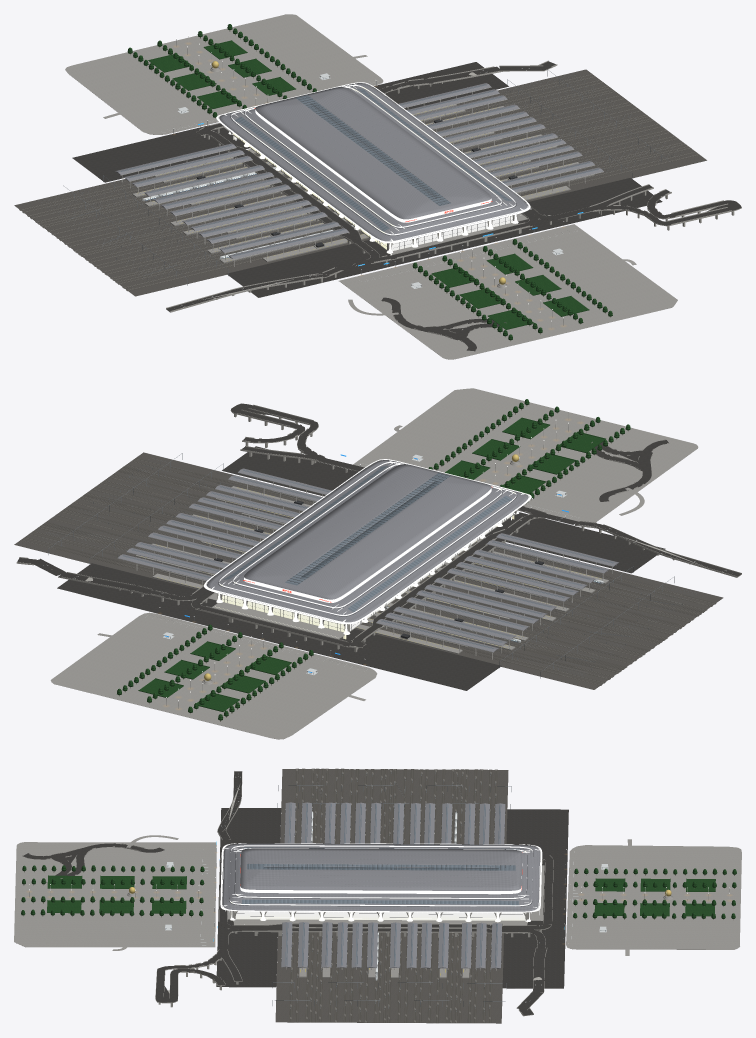
3 views of the same model, one above another, from view 1: azimuth 30°, elevation 25°; view 2: azimuth 150°, elevation 25°; view 3: azimuth 270°, elevation 25° (orthographic). The views are drawn at different scales.
Visible parts, largest first — view 1: Plaza_S, Roof_Shell, NE_ContinuousBallast, TrackBed_0, Canopy_0_-286, Apron_edge, Rail_0_-1, CanopySky, ViaductTop, Hedge_0_-1, Parterre_0_-1, Platform_1 (+9 smaller); view 2: Plaza_S, Roof_Shell, NE_ContinuousBallast, TrackBed_0, Apron_edge, Canopy_0_-286, Rail_0_-1, CanopySky, ViaductTop, Parterre_0_-1, Hedge_0_-1, Platform_1 (+8 smaller); view 3: Plaza_S, Roof_Shell, NE_ContinuousBallast, TrackBed_0, Apron_edge, Canopy_0_-286, ViaductTop, CanopySky, Parterre_0_-1, Hedge_0_-1, DeckCol, Viaduct (+8 smaller).
Boxes of the visible parts, left/top/right/bottom form: Plaza_S: left=65, top=14, right=677, bottom=359; Roof_Shell: left=219, top=83, right=527, bottom=241; NE_ContinuousBallast: left=14, top=69, right=706, bottom=296; TrackBed_0: left=19, top=73, right=699, bottom=291; Canopy_0_-286: left=116, top=83, right=603, bottom=259; Apron_edge: left=72, top=62, right=662, bottom=297; Rail_0_-1: left=20, top=74, right=699, bottom=290; CanopySky: left=121, top=84, right=598, bottom=256; ViaductTop: left=166, top=61, right=741, bottom=351; Hedge_0_-1: left=127, top=24, right=612, bottom=340; Parterre_0_-1: left=148, top=41, right=588, bottom=329; Platform_1: left=132, top=104, right=594, bottom=263; Plaza_S: left=50, top=388, right=698, bottom=739; Roof_Shell: left=207, top=460, right=528, bottom=622; NE_ContinuousBallast: left=14, top=452, right=723, bottom=689; TrackBed_0: left=20, top=458, right=716, bottom=685; Apron_edge: left=31, top=446, right=665, bottom=690; Canopy_0_-286: left=118, top=468, right=618, bottom=652; Rail_0_-1: left=21, top=458, right=715, bottom=685; CanopySky: left=123, top=466, right=613, bottom=648; ViaductTop: left=17, top=403, right=741, bottom=647; Parterre_0_-1: left=139, top=418, right=605, bottom=711; Hedge_0_-1: left=117, top=399, right=630, bottom=720; Platform_1: left=135, top=486, right=608, bottom=653; Plaza_S: left=14, top=842, right=741, bottom=949; Roof_Shell: left=222, top=843, right=539, bottom=911; NE_ContinuousBallast: left=275, top=769, right=508, bottom=1023; TrackBed_0: left=289, top=768, right=497, bottom=1023; Apron_edge: left=216, top=808, right=568, bottom=1009; Canopy_0_-286: left=281, top=802, right=505, bottom=968; ViaductTop: left=23, top=771, right=553, bottom=1015; CanopySky: left=242, top=804, right=520, bottom=966; Parterre_0_-1: left=47, top=875, right=714, bottom=916; Hedge_0_-1: left=21, top=865, right=736, bottom=918; DeckCol: left=220, top=843, right=542, bottom=922; Viaduct: left=22, top=771, right=553, bottom=1016.
Size of the model in its own units: 853 by 50.87 by 1030.
Materials: 30 (16 with a texture image).
